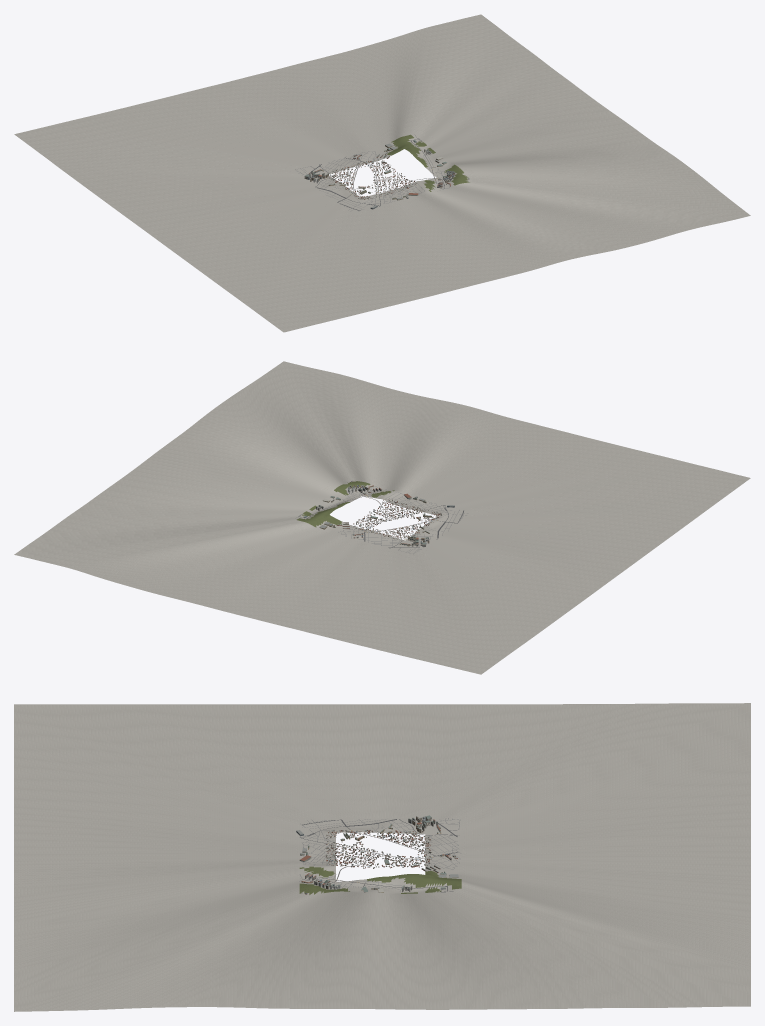
The picture shows the model from 3 angles, top to bottom: view 1: azimuth 30°, elevation 25°; view 2: azimuth 150°, elevation 25°; view 3: azimuth 270°, elevation 25°; orthographic projection. The views are drawn at different scales.
Visible parts, largest first — view 1: ctx-ground, ctx-fill, ctx-buildings, ctx-streets; view 2: ctx-ground, ctx-fill, ctx-buildings, ctx-streets; view 3: ctx-ground, ctx-fill, ctx-buildings, ctx-streets, ctx-roads.
Boxes of the visible parts, <box> form: ctx-ground: <box>14,14,750,332</box>; ctx-fill: <box>329,159,416,200</box>; ctx-buildings: <box>304,140,455,209</box>; ctx-streets: <box>295,151,468,211</box>; ctx-ground: <box>14,361,750,674</box>; ctx-fill: <box>353,498,444,540</box>; ctx-buildings: <box>303,485,454,546</box>; ctx-streets: <box>324,486,468,554</box>; ctx-ground: <box>14,703,750,1011</box>; ctx-fill: <box>325,829,431,868</box>; ctx-buildings: <box>296,815,458,892</box>; ctx-streets: <box>299,818,461,893</box>; ctx-roads: <box>300,819,458,892</box>.
Bounding box in the file's own units: 7600 × 127 × 7600.
Materials: 16 (15 with a texture image).
